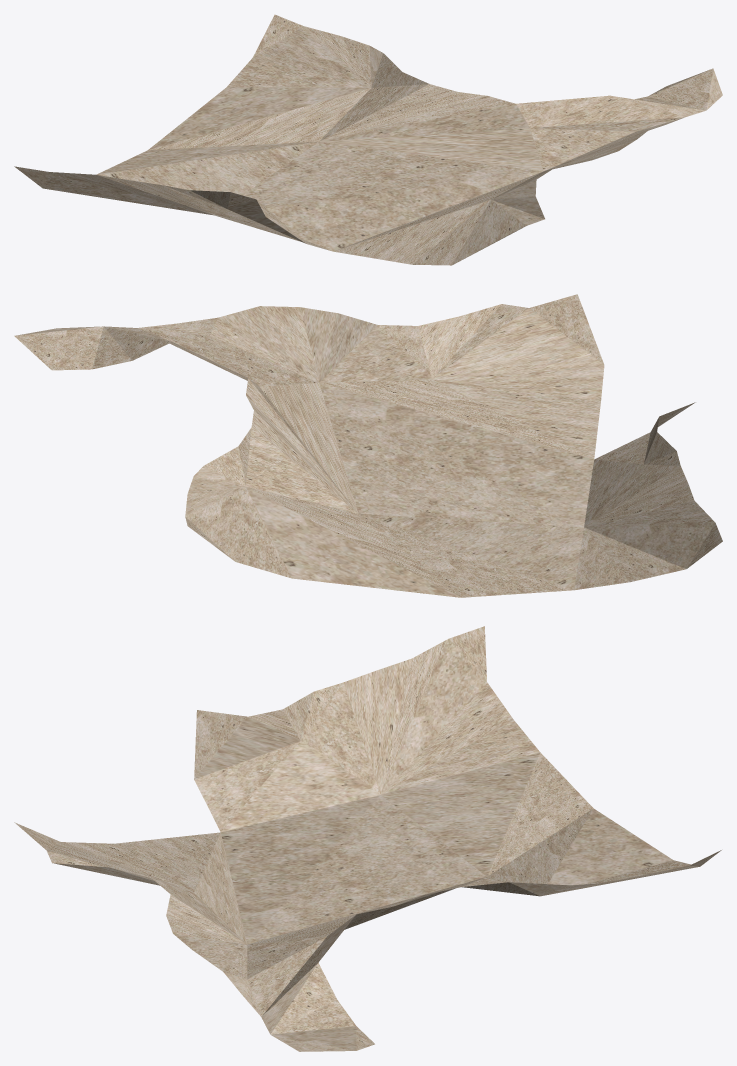
File: lodseabed085.obj
The picture shows the model from 3 angles, top to bottom: view 1: azimuth 30°, elevation 25°; view 2: azimuth 150°, elevation 25°; view 3: azimuth 270°, elevation 25°; orthographic projection. The views are drawn at different scales.
Visible parts, largest first — view 1: lodseabed085; view 2: lodseabed085; view 3: lodseabed085.
Part boxes in pixels (box(x1,y1,x2,y2)): lodseabed085: box(14, 14, 722, 265); lodseabed085: box(14, 294, 722, 597); lodseabed085: box(14, 626, 721, 1051).
Size of the model in its own units: 389 by 34.56 by 294.
